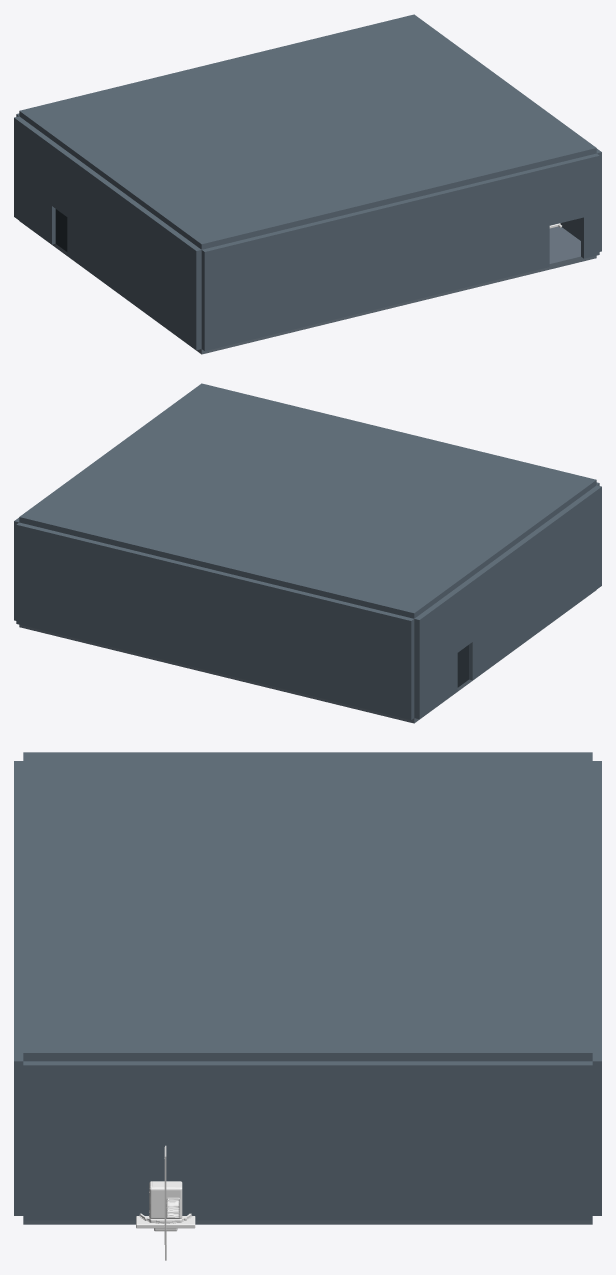
File: Specimen-Godot-Art.glb
The picture shows the model from 3 angles, top to bottom: view 1: azimuth 30°, elevation 25°; view 2: azimuth 150°, elevation 25°; view 3: azimuth 270°, elevation 25°; orthographic projection. The views are drawn at different scales.
Parts seen in each view (by area): view 1: _MeshInstance3D_182, _MeshInstance3D_184, _MeshInstance3D_189, _MeshInstance3D_188, _MeshInstance3D_181, _MeshInstance3D_186, _MeshInstance3D_185, _MeshInstance3D_190, _MeshInstance3D_187, _MeshInstance3D_244; view 2: _MeshInstance3D_182, _MeshInstance3D_183, _MeshInstance3D_189, _MeshInstance3D_188, _MeshInstance3D_181, _MeshInstance3D_190; view 3: _MeshInstance3D_182, _MeshInstance3D_187, _MeshInstance3D_183, _MeshInstance3D_184, _MeshInstance3D_181, _MeshInstance3D_185, FourNativeVolumeBiofilters2.
Boxes of the visible parts, <box> form: _MeshInstance3D_182: <box>19,14,596,249</box>; _MeshInstance3D_184: <box>201,165,549,350</box>; _MeshInstance3D_189: <box>67,155,201,350</box>; _MeshInstance3D_188: <box>14,116,56,244</box>; _MeshInstance3D_181: <box>19,221,596,354</box>; _MeshInstance3D_186: <box>547,157,583,225</box>; _MeshInstance3D_185: <box>581,153,599,258</box>; _MeshInstance3D_190: <box>51,144,72,216</box>; _MeshInstance3D_187: <box>560,148,601,251</box>; _MeshInstance3D_244: <box>55,209,67,251</box>; _MeshInstance3D_182: <box>19,383,596,618</box>; _MeshInstance3D_183: <box>16,522,414,719</box>; _MeshInstance3D_189: <box>468,485,601,680</box>; _MeshInstance3D_188: <box>414,591,457,719</box>; _MeshInstance3D_181: <box>19,590,596,723</box>; _MeshInstance3D_190: <box>452,580,472,652</box>; _MeshInstance3D_182: <box>23,752,592,1061</box>; _MeshInstance3D_187: <box>23,1061,592,1220</box>; _MeshInstance3D_183: <box>592,761,601,1215</box>; _MeshInstance3D_184: <box>14,761,23,1023</box>; _MeshInstance3D_181: <box>23,1220,592,1224</box>; _MeshInstance3D_185: <box>14,1049,23,1215</box>; FourNativeVolumeBiofilters2: <box>149,1181,182,1222</box>.
Size of the model in its own units: 31.88 by 9.66 by 24.8.
